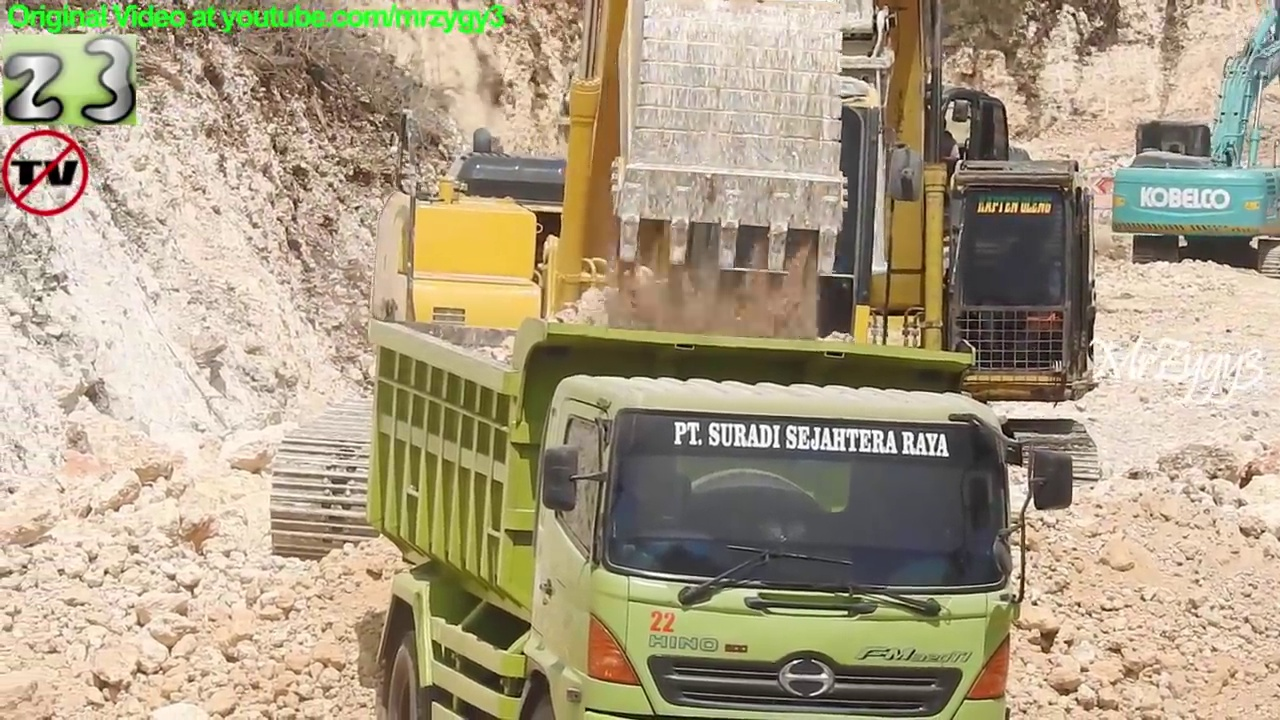excavator: (260, 1, 929, 569), (464, 3, 1106, 534), (1103, 5, 1280, 288)
truck: (364, 307, 1079, 720)
